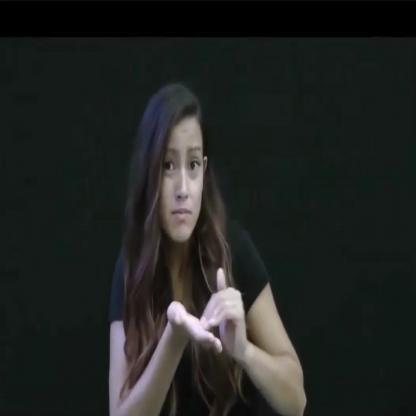ExcuseMe: (159, 252, 253, 368)
